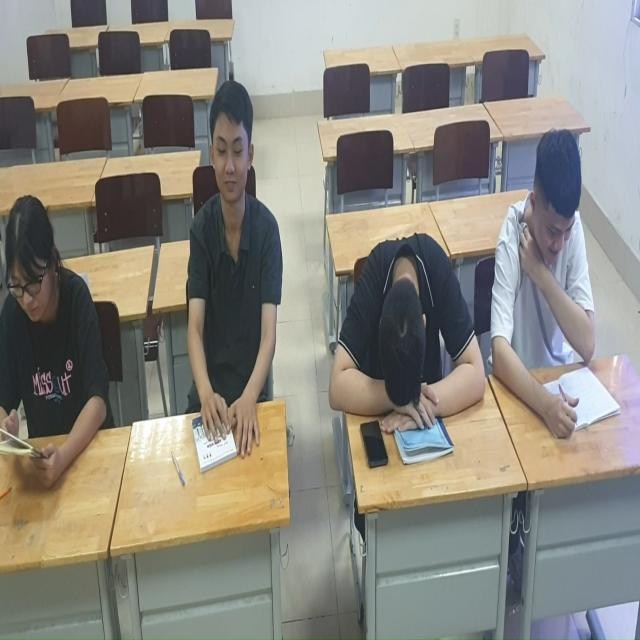read: (485, 126, 635, 431), (180, 78, 284, 477), (1, 204, 128, 502)
sleep: (328, 227, 489, 454)
